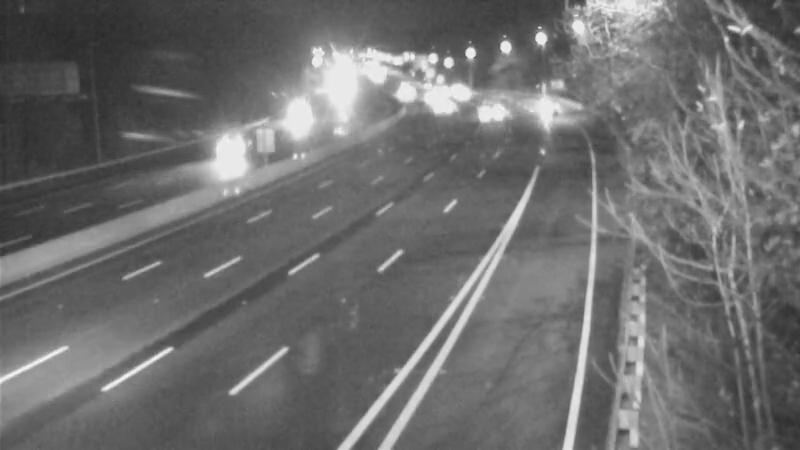vehicle: (184, 111, 264, 191), (522, 85, 572, 135), (416, 86, 466, 136), (463, 88, 513, 138), (272, 96, 322, 146)
